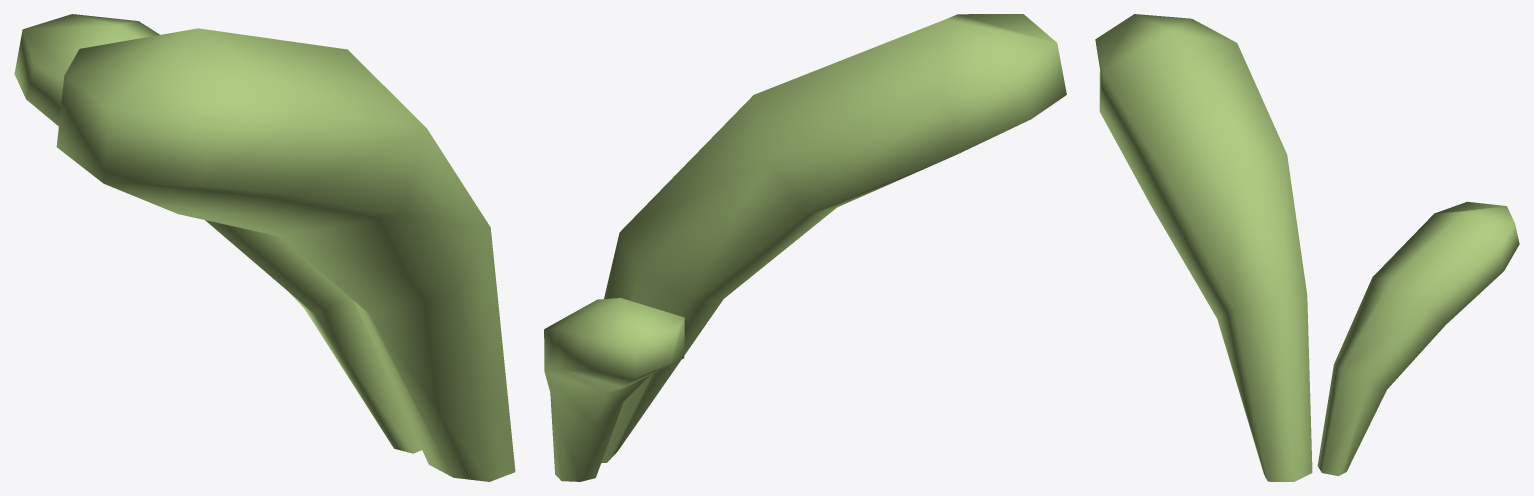
Rendered from SM_Grass_Tropical_Light.fbx.
The picture shows the model from 3 angles, left to right: view 1: azimuth 30°, elevation 25°; view 2: azimuth 150°, elevation 25°; view 3: azimuth 270°, elevation 25°; orthographic projection. The views are drawn at different scales.
Parts seen in each view (by area): view 1: SM_Grass_Tropical_Light; view 2: SM_Grass_Tropical_Light; view 3: SM_Grass_Tropical_Light.
Part boxes in pixels (x1,y1,x2,y2): SM_Grass_Tropical_Light: [14, 14, 515, 481]; SM_Grass_Tropical_Light: [544, 14, 1066, 481]; SM_Grass_Tropical_Light: [1095, 14, 1519, 481].
Size of the model in its own units: 0.4085 by 0.4418 by 0.5007.
